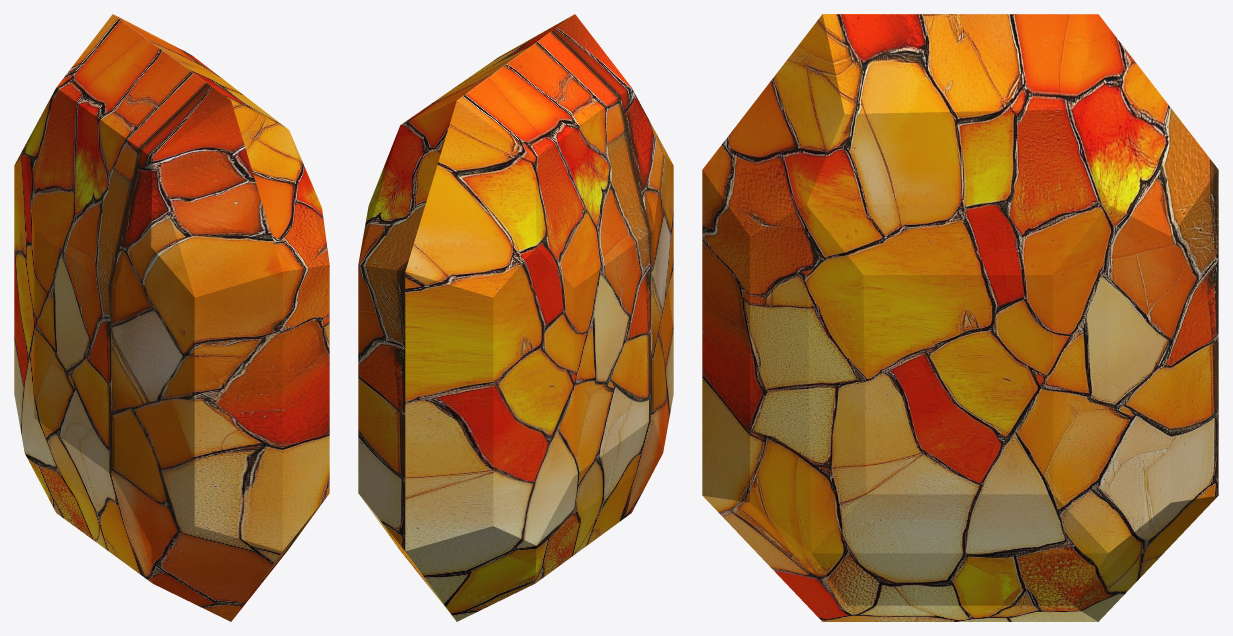
File: gemstone8OrangeCompressed.glb
The picture shows the model from 3 angles, left to right: view 1: azimuth 30°, elevation 25°; view 2: azimuth 150°, elevation 25°; view 3: azimuth 270°, elevation 25°; orthographic projection. The views are drawn at different scales.
Visible parts, largest first — view 1: gemstone7; view 2: gemstone7; view 3: gemstone7.
Part boxes in pixels (bbox=[...]): gemstone7: bbox=[14, 14, 329, 621]; gemstone7: bbox=[358, 14, 673, 621]; gemstone7: bbox=[702, 14, 1218, 621].
Size of the model in its own units: 0.5 by 1.3 by 1.
Materials: 1 (1 with a texture image).
